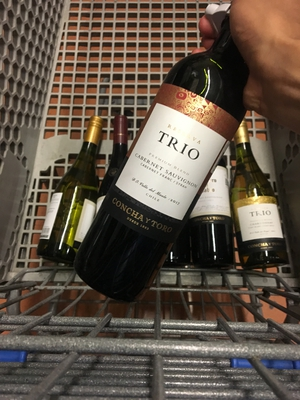trio cabernet sauvignon: (94, 20, 251, 312)
